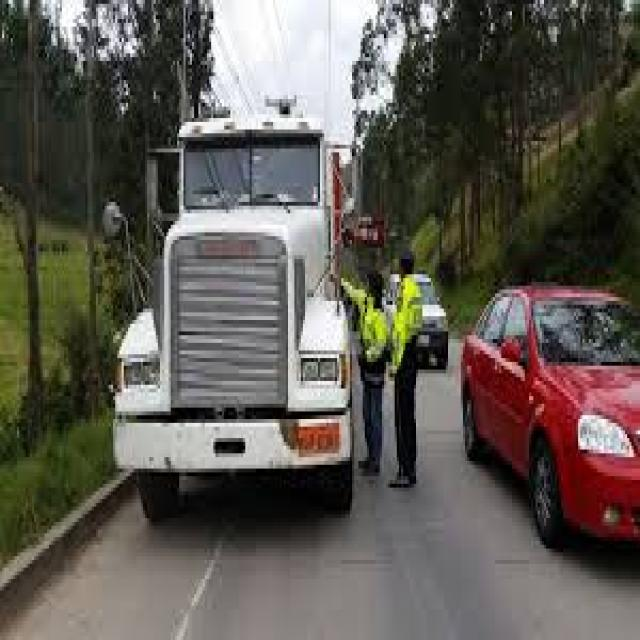SED: (461, 279, 640, 561)
TRUCK: (127, 120, 361, 519)
